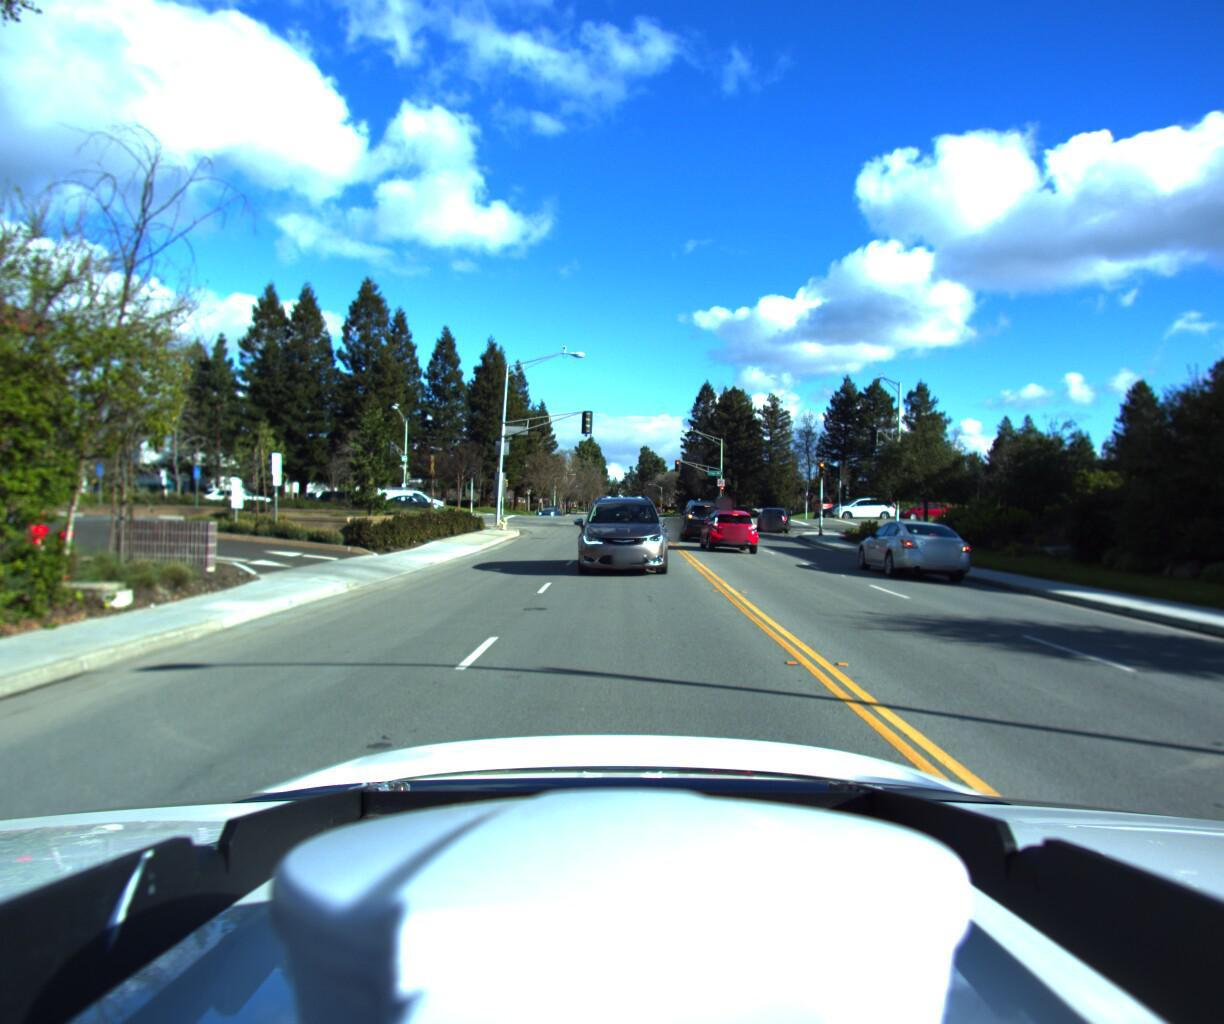bicycle: (713, 495, 732, 530)
car: (571, 485, 676, 577), (845, 513, 972, 582), (696, 509, 758, 556), (195, 485, 277, 515), (673, 500, 726, 540), (374, 484, 443, 514), (827, 494, 896, 520), (375, 492, 442, 516), (892, 500, 955, 520), (751, 503, 795, 531)
